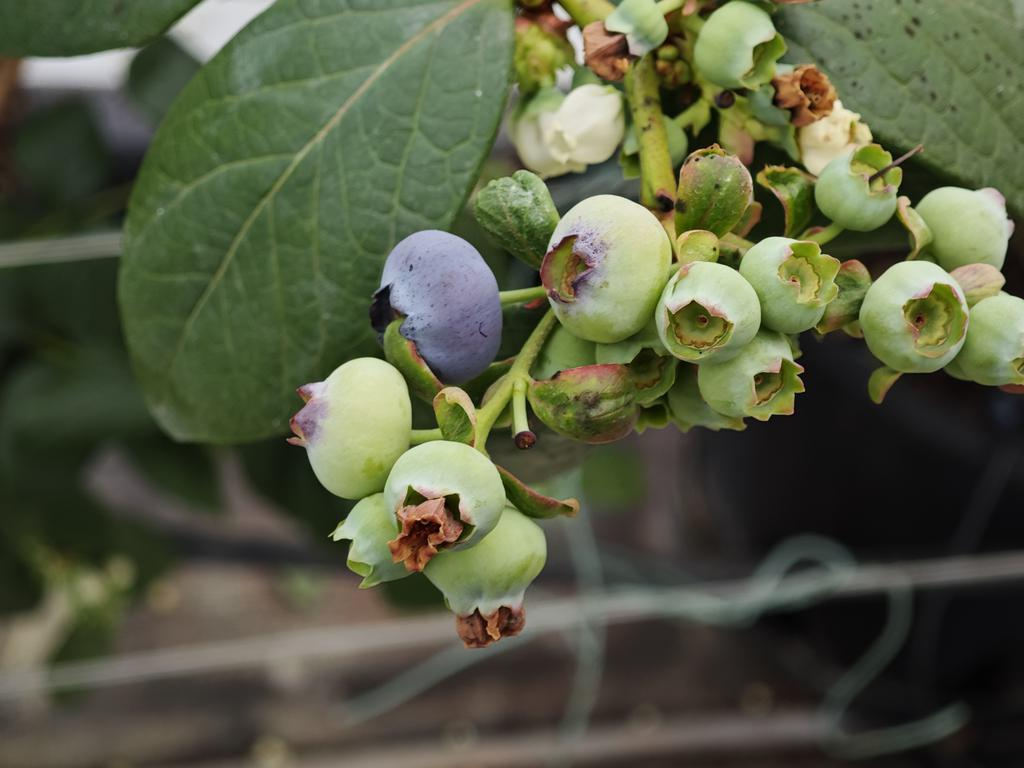RipeBlueBerry: (372, 225, 508, 382)
UnripeBlueBerry: (536, 190, 674, 345), (287, 355, 417, 501), (382, 437, 508, 556), (858, 257, 975, 380)
